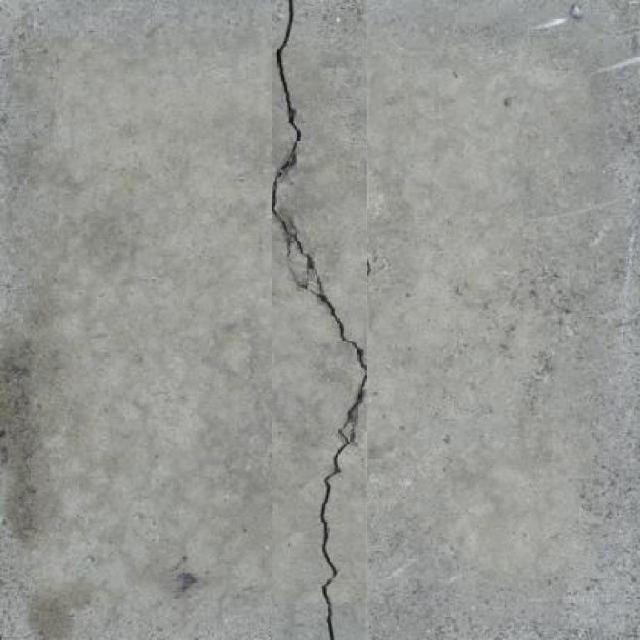Crack: (268, 0, 370, 639)
